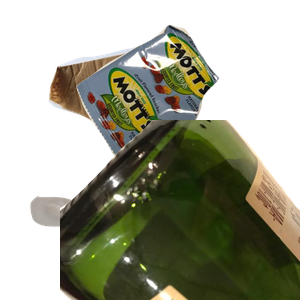cardboard: (46, 40, 226, 179)
glass: (60, 120, 300, 300)
plastic: (28, 176, 253, 300)
trash: (74, 22, 300, 185)
